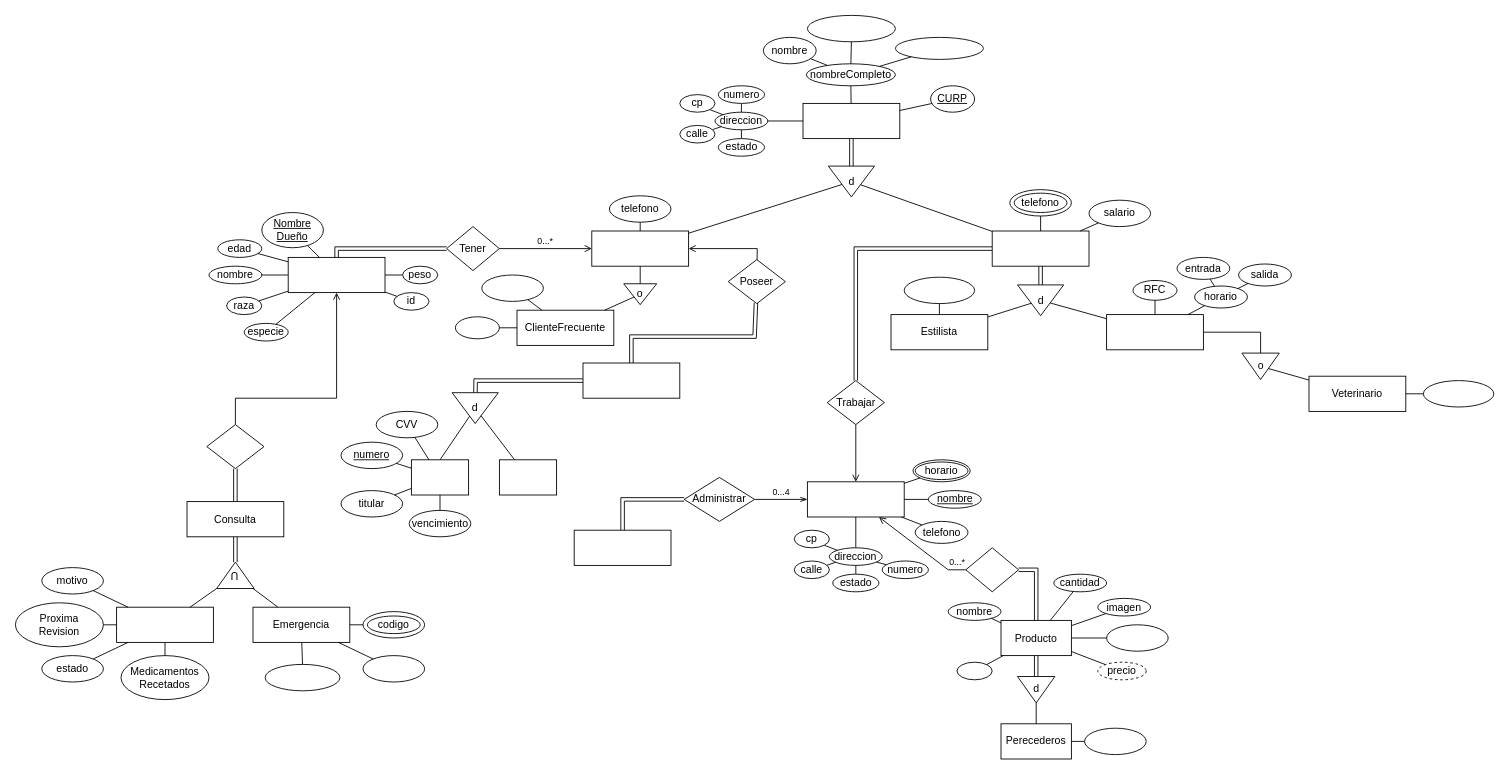
The diagram is 1509 pixels wide and 774 high, and some of its shapes have lost their labels. The centre of each missing label's shape, as x and y in pixels:
apellido_materno: point (851, 28)
apellido_paterno: point (939, 48)
caducidad: point (1115, 741)
Ciente: point (640, 248)
Consultorio: point (622, 547)
cumpleaños: point (512, 287)
descripcion: point (1137, 637)
Efectivo: point (528, 477)
email: point (477, 327)
Estetica: point (855, 499)
Mascota: point (336, 275)
noCertificado: point (939, 290)
noPacientes: point (1458, 393)
Normal: point (164, 624)
Pago: point (631, 380)
Persona: point (851, 121)
procedimiento: point (302, 677)
Requerir: point (235, 446)
sintomas: point (393, 668)
Supervisor: point (1154, 332)
Tarjeta: point (440, 477)
tipo: point (974, 670)
Trabajador: point (1040, 248)
Vender: point (992, 569)
